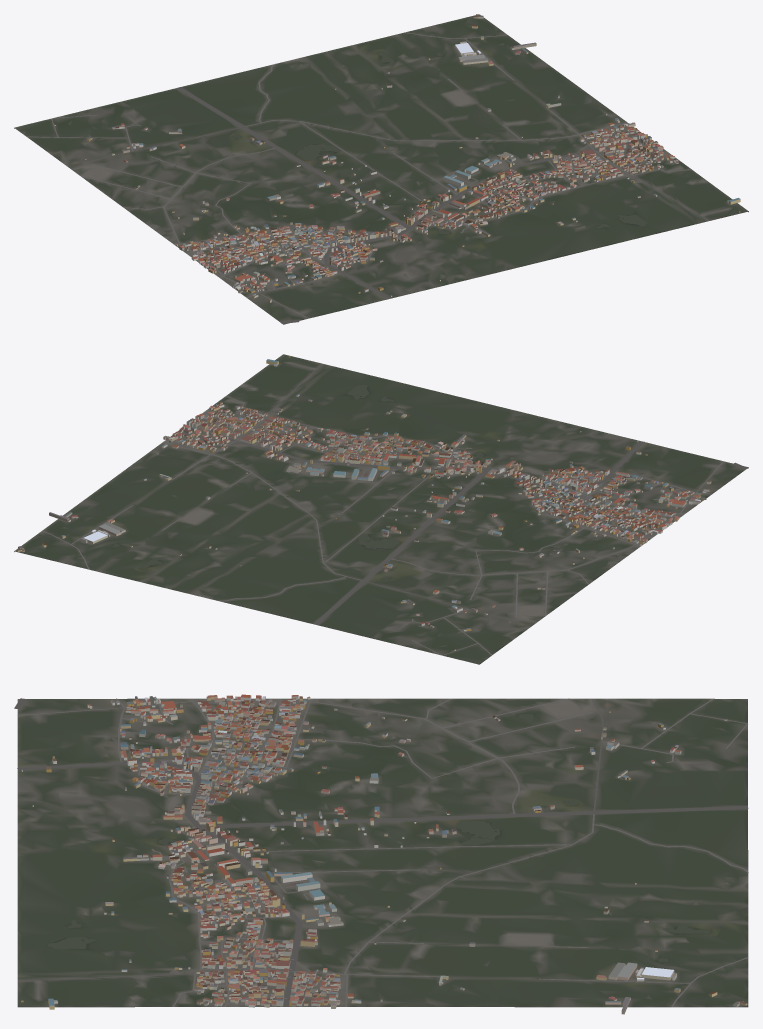
3 views of the same model, one above another, from view 1: azimuth 30°, elevation 25°; view 2: azimuth 150°, elevation 25°; view 3: azimuth 270°, elevation 25° (orthographic). The views are drawn at different scales.
Visible parts, largest first — view 1: ground, buildings, roads, water; view 2: ground, buildings, roads, water; view 3: ground, buildings, roads, water.
Part boxes in pixels (x1=…): ground: x1=14, y1=14, x2=748, y2=324; buildings: x1=54, y1=14, x2=740, y2=302; roads: x1=26, y1=32, x2=709, y2=323; water: x1=117, y1=52, x2=646, y2=234; ground: x1=14, y1=354, x2=748, y2=664; buildings: x1=17, y1=355, x2=711, y2=650; roads: x1=42, y1=363, x2=747, y2=655; water: x1=110, y1=384, x2=539, y2=600; ground: x1=17, y1=698, x2=748, y2=1007; buildings: x1=21, y1=694, x2=747, y2=1014; roads: x1=14, y1=698, x2=748, y2=1007; water: x1=48, y1=714, x2=710, y2=963.
Size of the model in its own units: 1436 by 19.5 by 1410.
